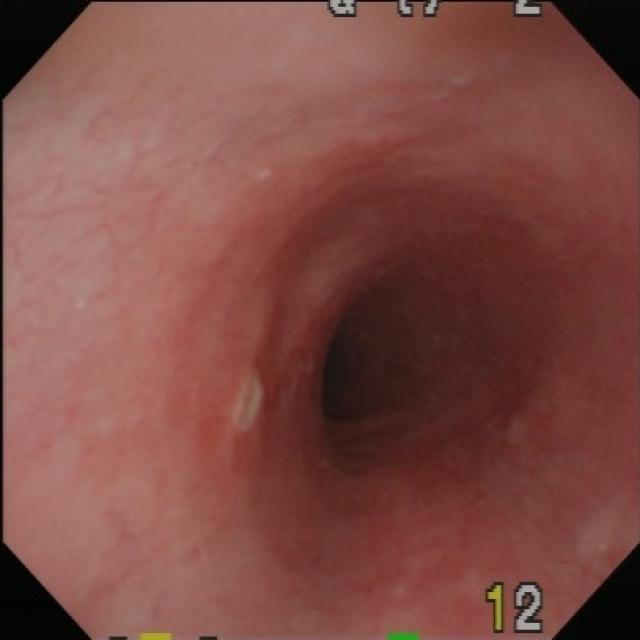E: (311, 306, 430, 444)
J: (231, 369, 272, 442)
S: (485, 581, 547, 636), (325, 3, 545, 18)
